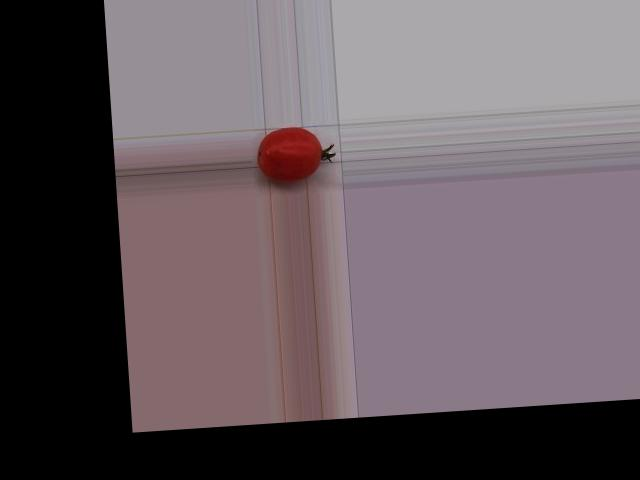tomato: (255, 125, 323, 183)
